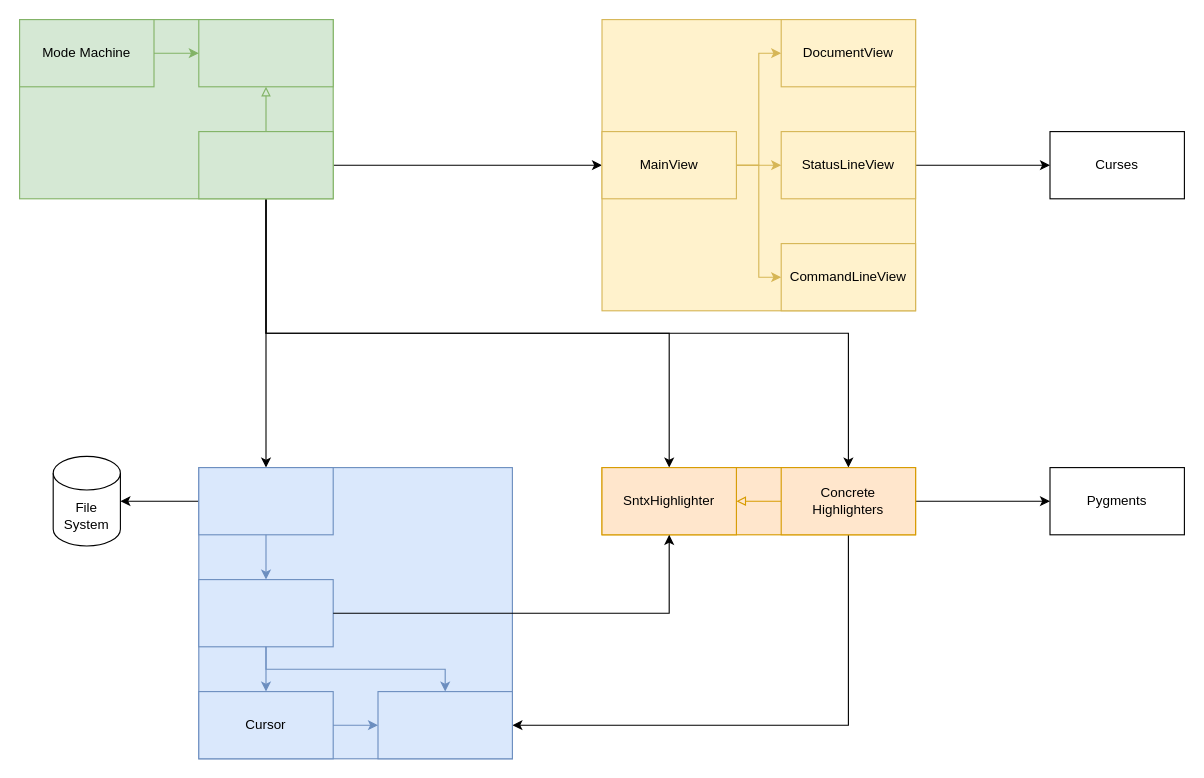
This 1204x778 diagram has some shape labels left out. Each missing label, with the centre of its shape:
"Concrete Modes" goes at (x=265, y=164).
"DocBufMngr" goes at (x=265, y=500).
"Document" goes at (x=444, y=724).
"DocumentBuffer" goes at (x=265, y=612).
"Mode" goes at (x=265, y=52).
